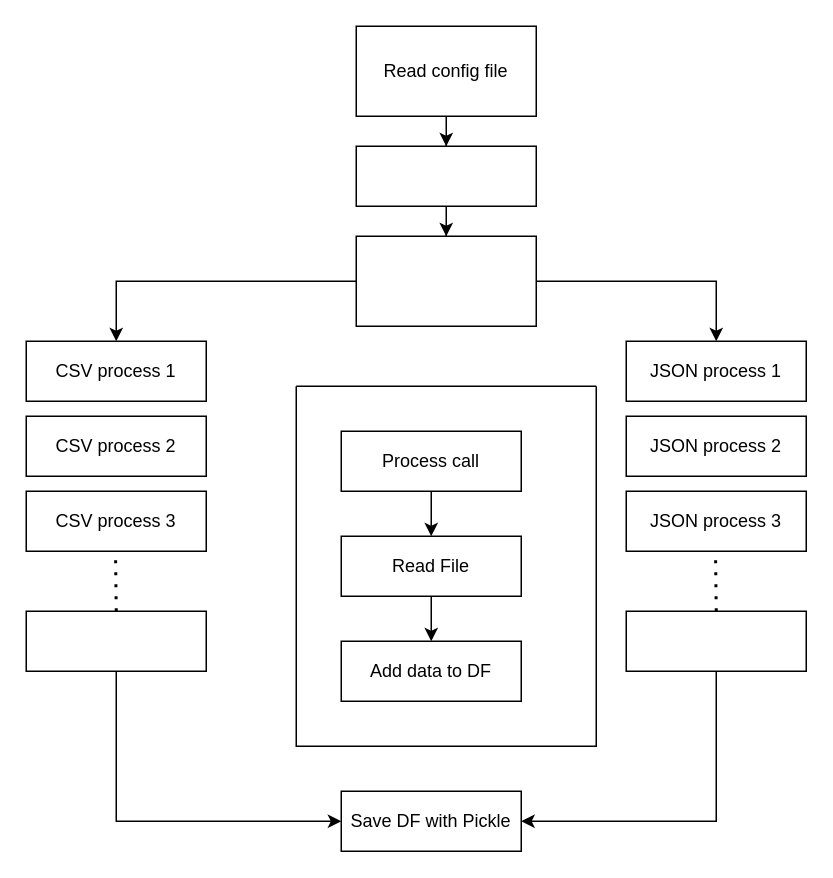
Image size: 833x878. Some labels were removed from this diagram. Each missing label, with the box of its shape:
Create Dataframe or Read Pickle: (355, 145, 536, 206)
CSV process n: (25, 610, 206, 671)
JSON process n: (625, 610, 806, 671)
Process n: (295, 385, 596, 746)
Start Daemon: (355, 235, 536, 326)
